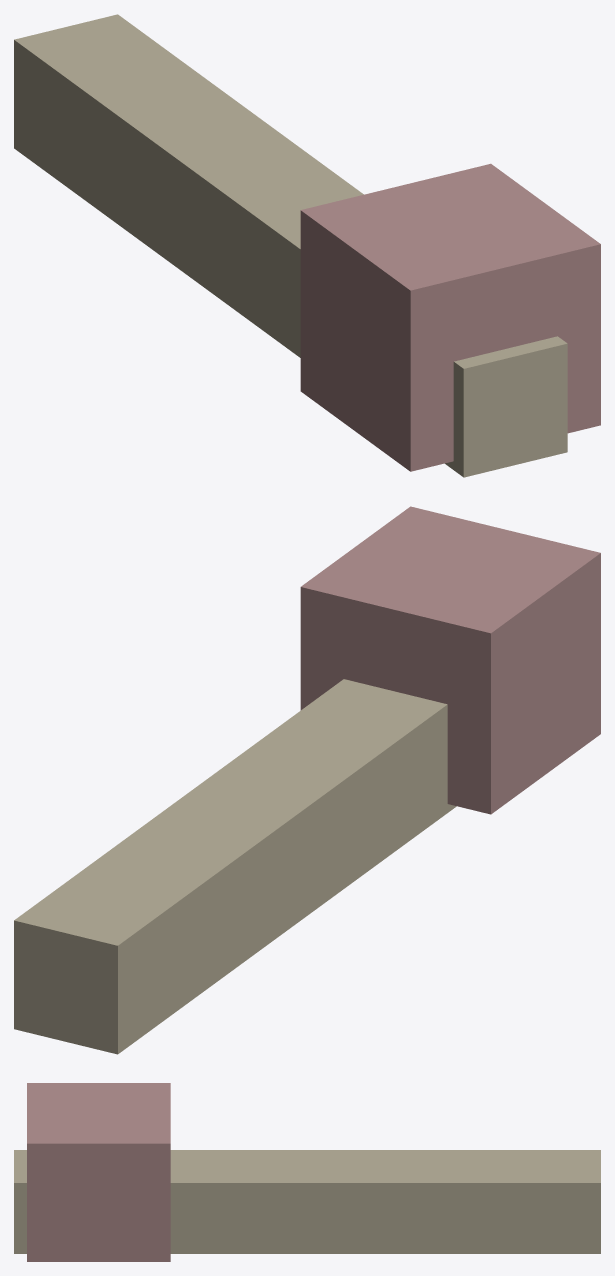
Rendered from wpn_ground_axe.glb.
The picture shows the model from 3 angles, top to bottom: view 1: azimuth 30°, elevation 25°; view 2: azimuth 150°, elevation 25°; view 3: azimuth 270°, elevation 25°; orthographic projection. The views are drawn at different scales.
Parts seen in each view (by area): view 1: wpn_ground_axe; view 2: wpn_ground_axe; view 3: wpn_ground_axe.
Boxes of the visible parts, x1,y1,x2,y2 form: wpn_ground_axe: (14, 14, 600, 477); wpn_ground_axe: (14, 506, 600, 1054); wpn_ground_axe: (14, 1083, 600, 1261).
Bounding box in the file's own units: 0.22 × 0.21 × 0.9.
